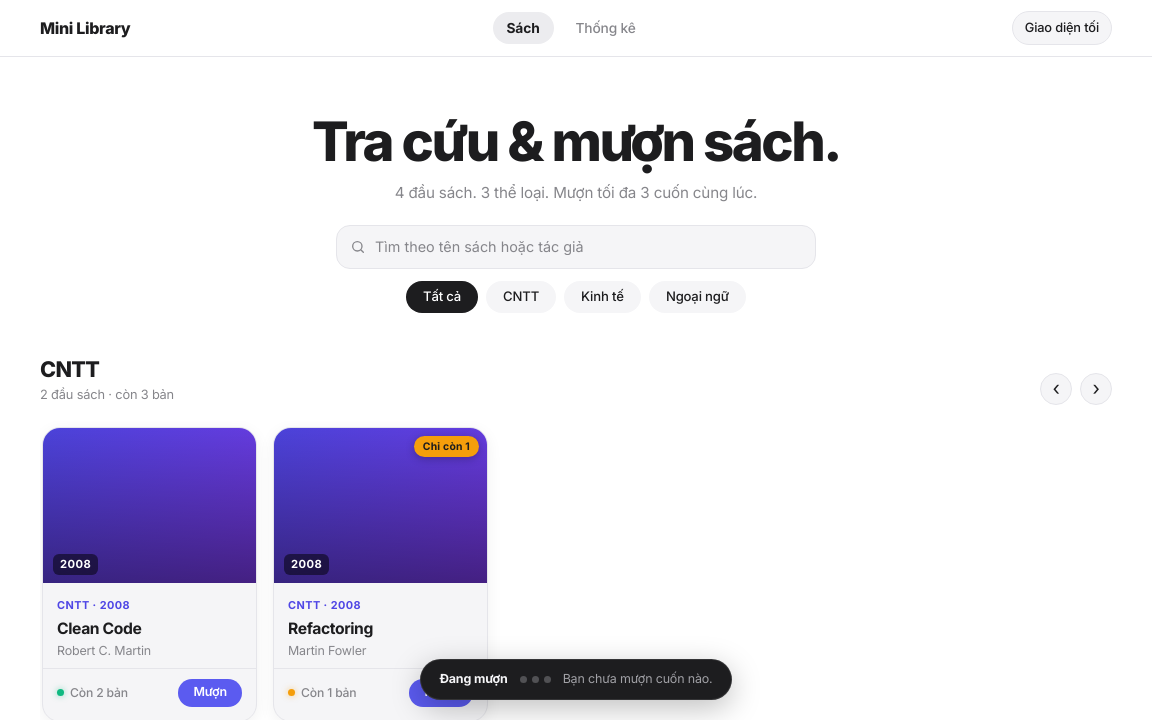
Test case: App (integration) › lọc theo thể loại
Expected: the heading "Clean Code" is shown, [57, 619, 141, 638]
Click the button "Kinh tế": {"x": 602, "y": 297} [564, 281, 641, 313]
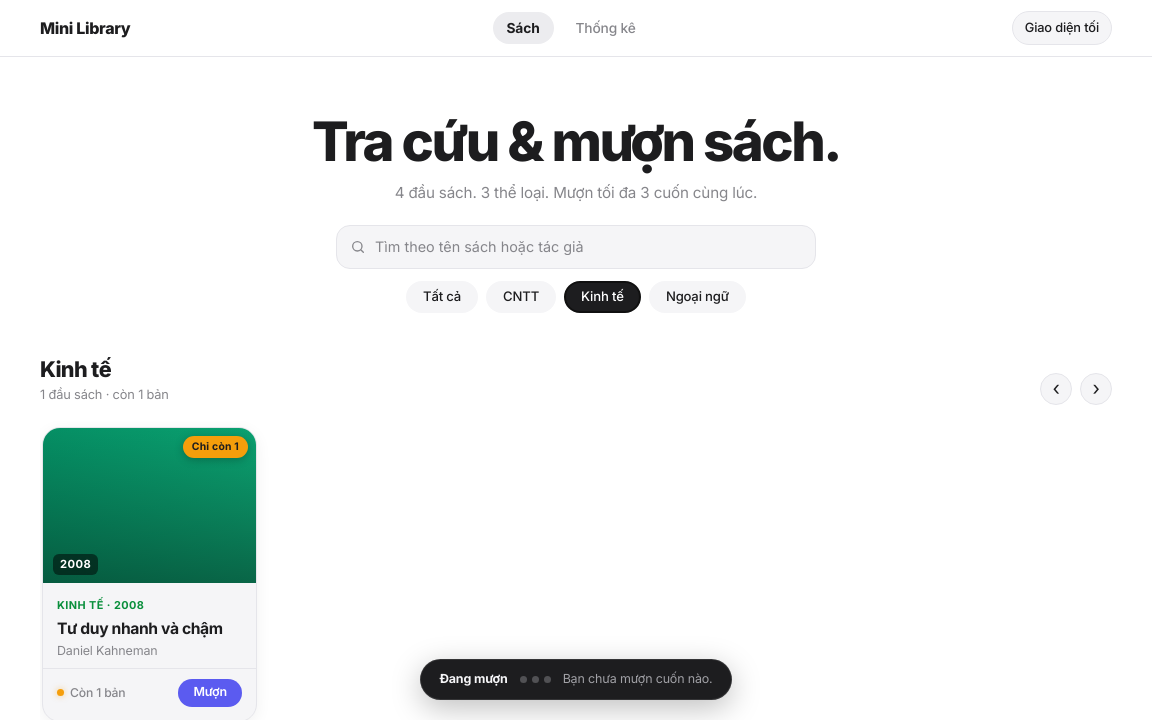
Expected: the heading "Tư duy nhanh và chậm" is shown, [57, 619, 242, 638]
Expected: the heading "Clean Code" is gone
